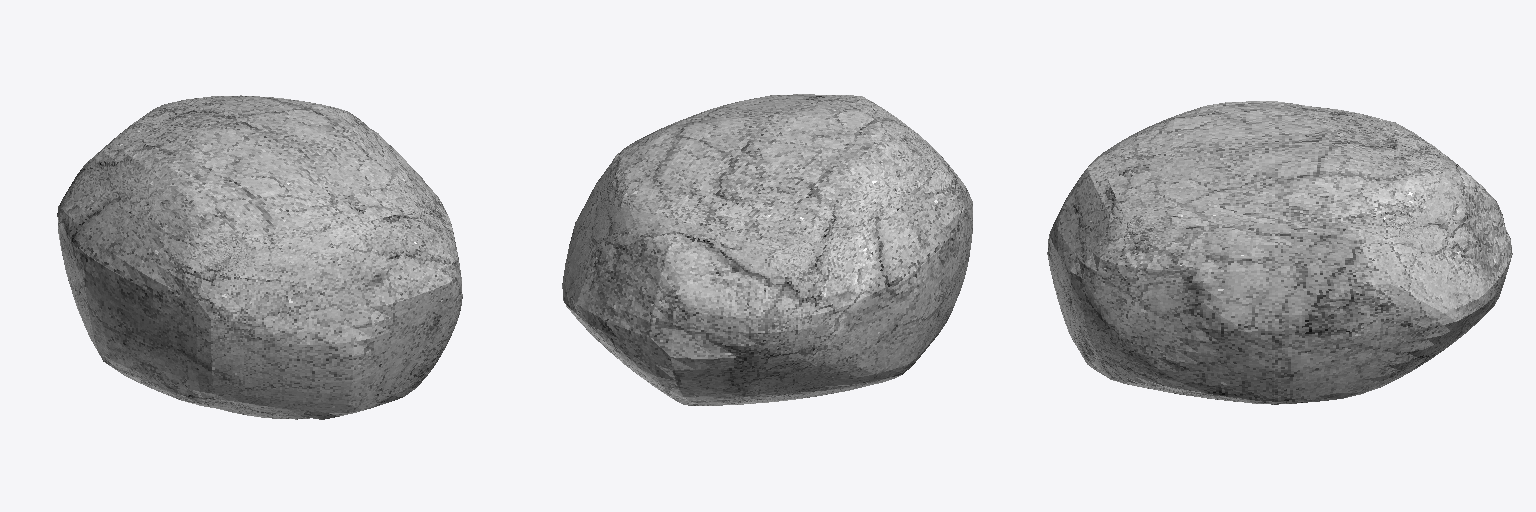
3 views of the same model, side by side, from view 1: azimuth 30°, elevation 25°; view 2: azimuth 150°, elevation 25°; view 3: azimuth 270°, elevation 25° (orthographic).
Parts seen in each view (by area): view 1: Cube; view 2: Cube; view 3: Cube.
Boxes of the visible parts, x1=… form: Cube: x1=57, y1=95, x2=462, y2=419; Cube: x1=562, y1=94, x2=972, y2=405; Cube: x1=1047, y1=101, x2=1512, y2=404.
Bounding box in the file's own units: 0.8007 × 0.5644 × 1.
Materials: 1 (1 with a texture image).